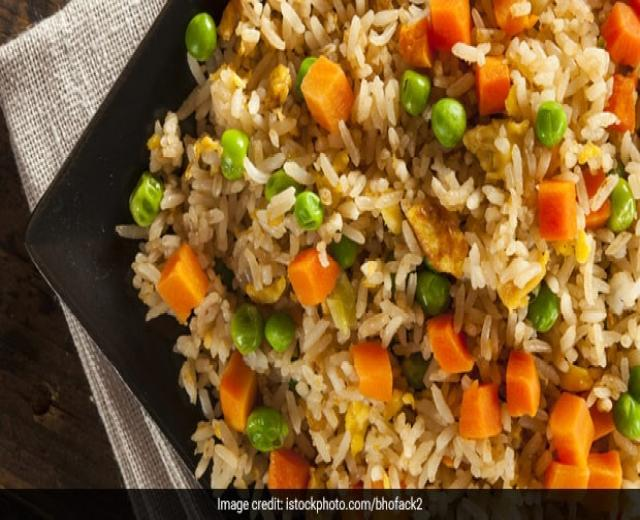fried rice: (124, 0, 633, 499), (20, 1, 258, 495)
